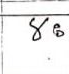anusvara: (47, 58, 50, 61)
